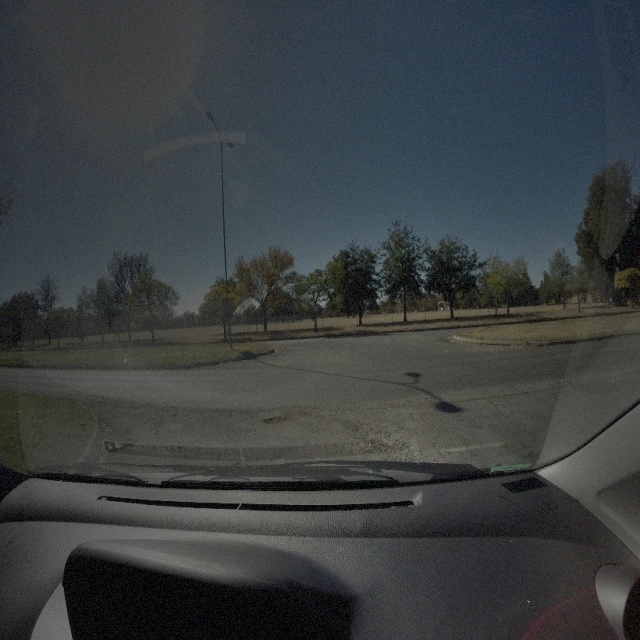pothole: (261, 413, 293, 425)
